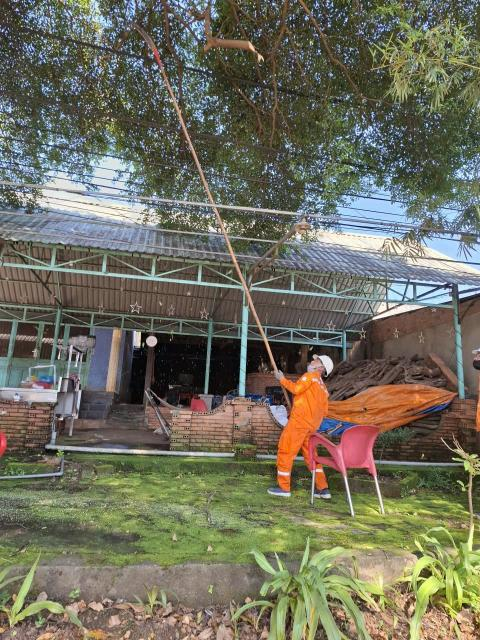helmet: (309, 349, 341, 375)
shoes: (308, 484, 345, 504), (264, 480, 298, 499)
